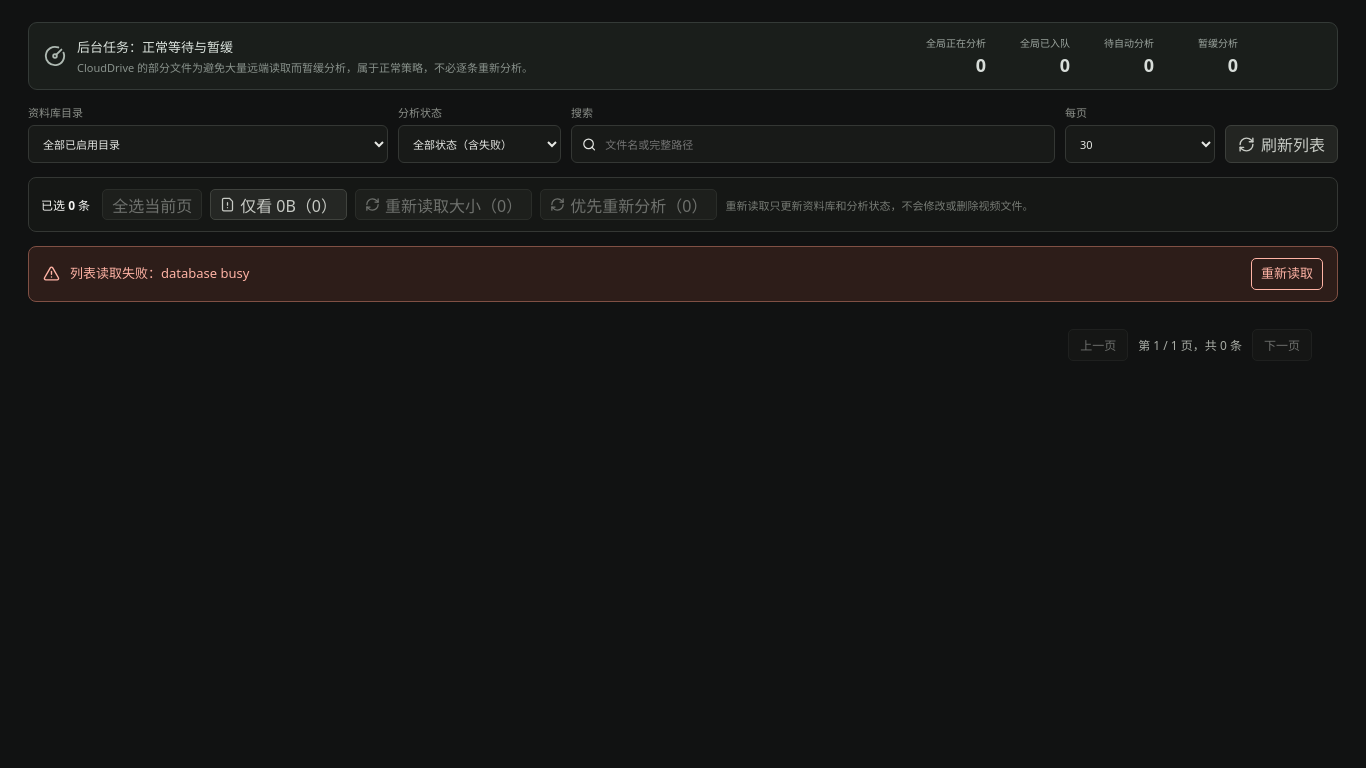
Test: MetadataIssuesPage › offers a read-only query retry without pretending a failed read is empty
Check: the message shows "database busy", box [70,264,249,282]
Click the button "重新读取".
click(1287, 274)  # box [1251,258,1323,290]
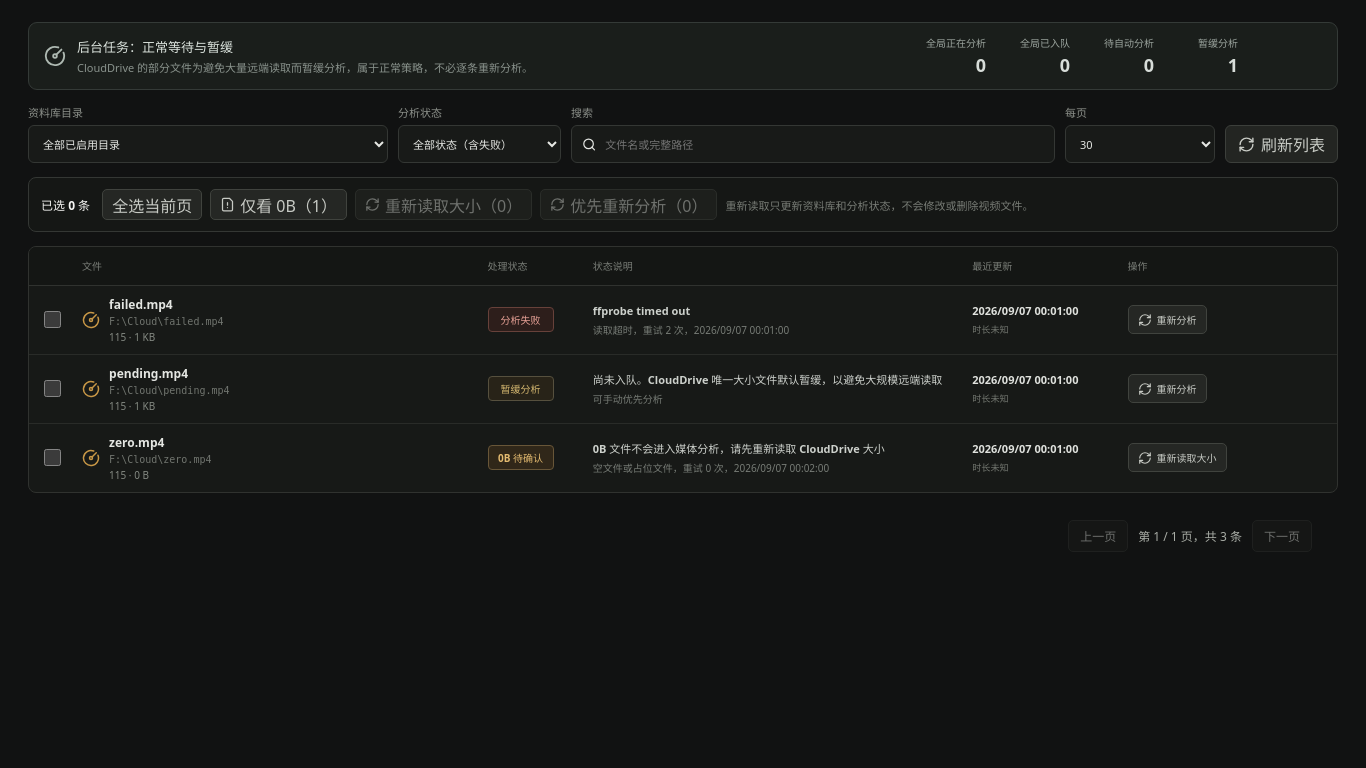
Check: the text "failed.mp4" is shown, box [109,296,173,312]
